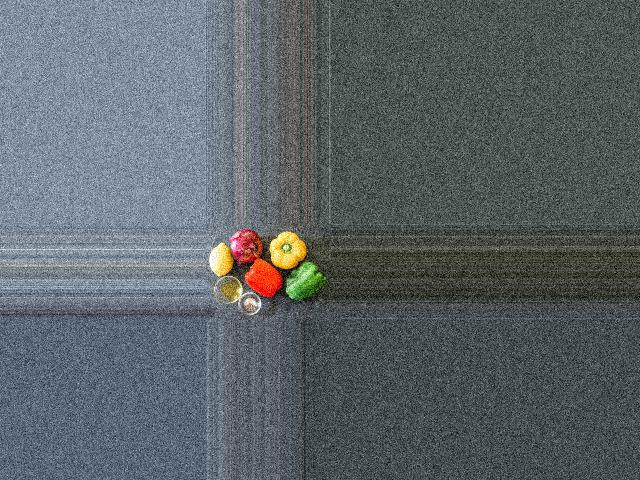bell_pepper: (245, 257, 282, 298)
